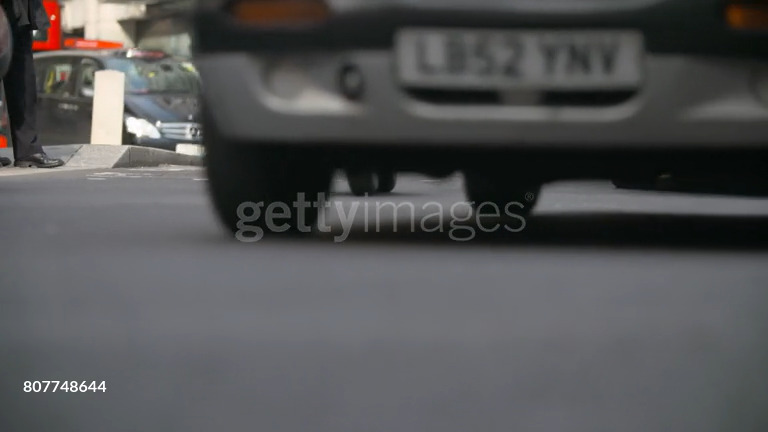car number: (399, 27, 643, 105)
